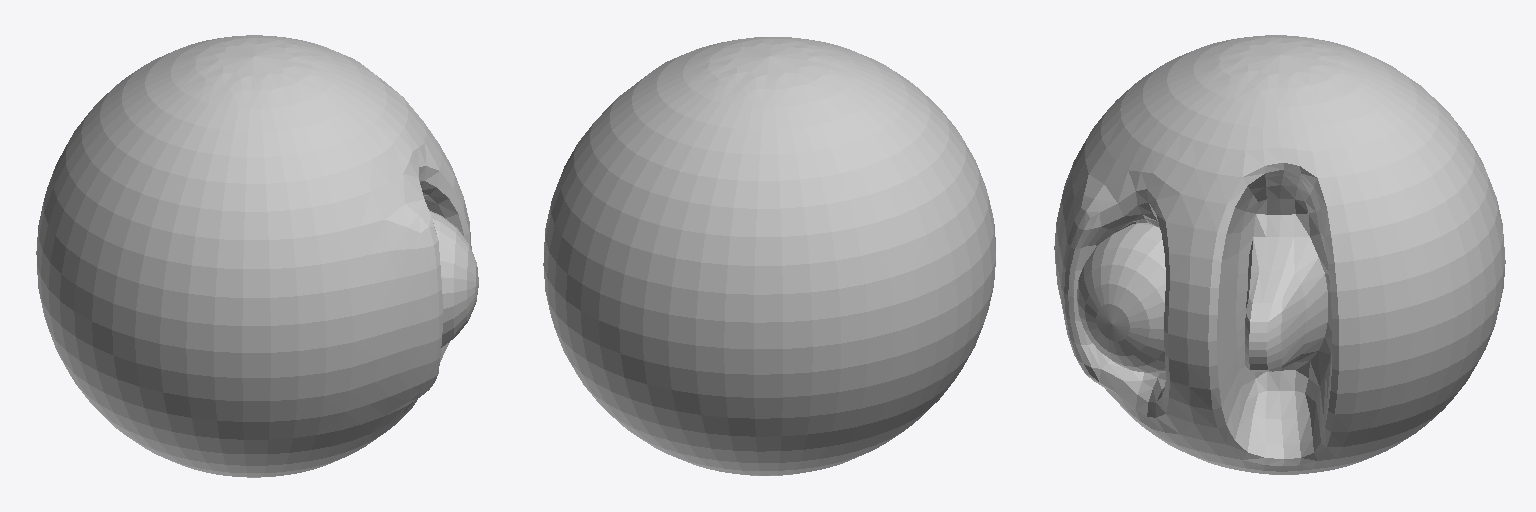
File: Tower-POISONMOB.obj
3 views of the same model, side by side, from view 1: azimuth 30°, elevation 25°; view 2: azimuth 150°, elevation 25°; view 3: azimuth 270°, elevation 25° (orthographic).
Visible parts, largest first — view 1: initialShadingGroup polySurface3; view 2: initialShadingGroup polySurface3; view 3: initialShadingGroup polySurface3.
Part boxes in pixels (x1,y1,x2,y2): initialShadingGroup polySurface3: (36,35,478,477); initialShadingGroup polySurface3: (543,37,995,475); initialShadingGroup polySurface3: (1054,35,1505,474).
Bounding box in the file's own units: 0.759 × 0.751 × 0.7677.